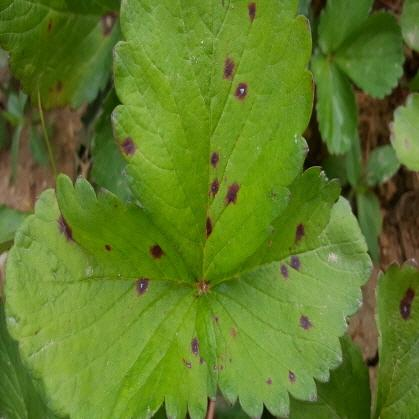Leaf Spot: (109, 0, 314, 284), (3, 173, 218, 418), (200, 164, 374, 418)
